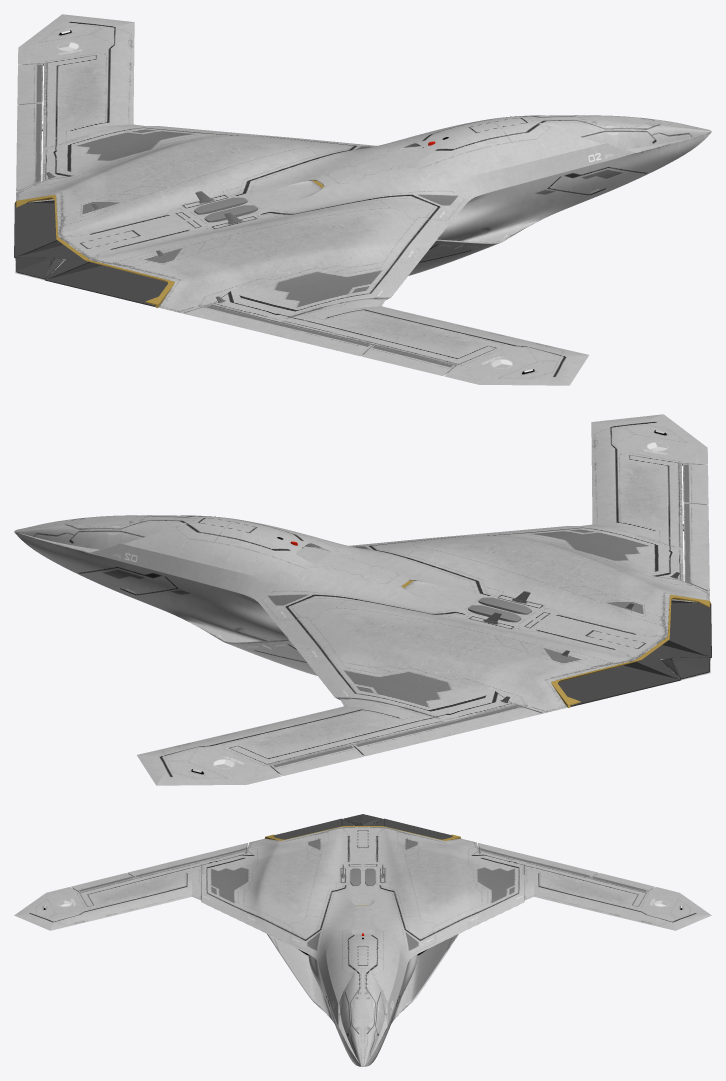
File: drone-frame.glb
The picture shows the model from 3 angles, top to bottom: view 1: azimuth 30°, elevation 25°; view 2: azimuth 150°, elevation 25°; view 3: azimuth 270°, elevation 25°; orthographic projection. The views are drawn at different scales.
Visible parts, largest first — view 1: Plane.011, Plane.004, Plane.010, Plane.002; view 2: Plane.011, Plane.004, Plane.010, Plane.002; view 3: Plane.011, Plane.004, Plane.010.
Part boxes in pixels (x1,y1,x2,y2): Plane.011: [15, 14, 711, 385]; Plane.004: [14, 200, 167, 306]; Plane.010: [46, 172, 257, 302]; Plane.002: [14, 195, 174, 307]; Plane.011: [14, 414, 710, 785]; Plane.004: [558, 600, 711, 706]; Plane.010: [468, 572, 679, 702]; Plane.002: [551, 595, 711, 707]; Plane.011: [14, 823, 711, 1066]; Plane.004: [273, 814, 452, 839]; Plane.010: [245, 838, 480, 885].
Bounding box in the file's own units: 528 × 62.75 × 667.
Materials: 11 (2 with a texture image).
